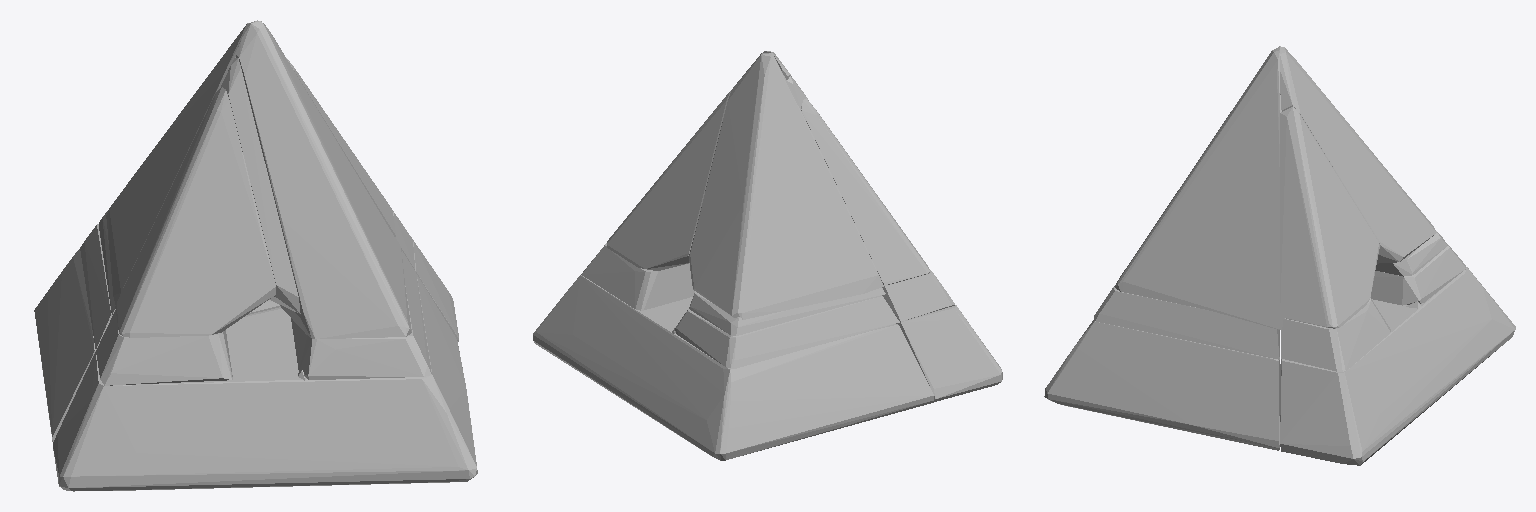
robot.urdf — root:
<robot name="root">
  <link name="link_Pyramid_W_Eye_convex_piece_0">
    <inertial>
      <origin xyz="0 0 0" rpy="0 0 0"/>
      <mass value="4.53E-07"/>
      <inertia ixx="2.87E-10" ixy="-6.75E-11" ixz="2.61E-12" iyy="1.64E-11" iyz="1.11E-11" izz="3.03E-10"/>
    </inertial>
    <visual>
      <origin xyz="0 0 0" rpy="0 0 0"/>
      <geometry>
        <mesh filename="Pyramid_W_Eye_convex_piece_0.obj" scale="1.0000E+00 1.0000E+00 1.0000E+00"/>
      </geometry>
      <material name="">
        <color rgba="7.50E-01 7.50E-01 7.50E-01 1"/>
      </material>
    </visual>
    <collision>
      <origin xyz="0 0 0" rpy="0 0 0"/>
      <geometry>
        <mesh filename="Pyramid_W_Eye_convex_piece_0.obj" scale="1.0000E+00 1.0000E+00 1.0000E+00"/>
      </geometry>
    </collision>
  </link>
  <link name="link_Pyramid_W_Eye_convex_piece_1">
    <inertial>
      <origin xyz="0 0 0" rpy="0 0 0"/>
      <mass value="2.35E-07"/>
      <inertia ixx="3.09E-13" ixy="-7.05E-13" ixz="1.48E-12" iyy="1.00E-11" iyz="1.10E-13" izz="9.88E-12"/>
    </inertial>
    <visual>
      <origin xyz="0 0 0" rpy="0 0 0"/>
      <geometry>
        <mesh filename="Pyramid_W_Eye_convex_piece_1.obj" scale="1.0000E+00 1.0000E+00 1.0000E+00"/>
      </geometry>
      <material name="">
        <color rgba="7.50E-01 7.50E-01 7.50E-01 1"/>
      </material>
    </visual>
    <collision>
      <origin xyz="0 0 0" rpy="0 0 0"/>
      <geometry>
        <mesh filename="Pyramid_W_Eye_convex_piece_1.obj" scale="1.0000E+00 1.0000E+00 1.0000E+00"/>
      </geometry>
    </collision>
  </link>
  <joint name="link_Pyramid_W_Eye_convex_piece_1_joint" type="fixed">
    <origin xyz="0 0 0" rpy="0 0 0"/>
    <parent link="link_Pyramid_W_Eye_convex_piece_0"/>
    <child link="link_Pyramid_W_Eye_convex_piece_1"/>
  </joint>
  <link name="link_Pyramid_W_Eye_convex_piece_2">
    <inertial>
      <origin xyz="0 0 0" rpy="0 0 0"/>
      <mass value="3.48E-07"/>
      <inertia ixx="4.64E-13" ixy="-1.23E-12" ixz="-2.09E-12" iyy="1.53E-11" iyz="-1.80E-13" izz="1.51E-11"/>
    </inertial>
    <visual>
      <origin xyz="0 0 0" rpy="0 0 0"/>
      <geometry>
        <mesh filename="Pyramid_W_Eye_convex_piece_2.obj" scale="1.0000E+00 1.0000E+00 1.0000E+00"/>
      </geometry>
      <material name="">
        <color rgba="7.50E-01 7.50E-01 7.50E-01 1"/>
      </material>
    </visual>
    <collision>
      <origin xyz="0 0 0" rpy="0 0 0"/>
      <geometry>
        <mesh filename="Pyramid_W_Eye_convex_piece_2.obj" scale="1.0000E+00 1.0000E+00 1.0000E+00"/>
      </geometry>
    </collision>
  </link>
  <joint name="link_Pyramid_W_Eye_convex_piece_2_joint" type="fixed">
    <origin xyz="0 0 0" rpy="0 0 0"/>
    <parent link="link_Pyramid_W_Eye_convex_piece_1"/>
    <child link="link_Pyramid_W_Eye_convex_piece_2"/>
  </joint>
  <link name="link_Pyramid_W_Eye_convex_piece_3">
    <inertial>
      <origin xyz="0 0 0" rpy="0 0 0"/>
      <mass value="3.45E-07"/>
      <inertia ixx="2.09E-10" ixy="-5.10E-11" ixz="-1.92E-12" iyy="1.27E-11" iyz="-7.85E-12" izz="2.21E-10"/>
    </inertial>
    <visual>
      <origin xyz="0 0 0" rpy="0 0 0"/>
      <geometry>
        <mesh filename="Pyramid_W_Eye_convex_piece_3.obj" scale="1.0000E+00 1.0000E+00 1.0000E+00"/>
      </geometry>
      <material name="">
        <color rgba="7.50E-01 7.50E-01 7.50E-01 1"/>
      </material>
    </visual>
    <collision>
      <origin xyz="0 0 0" rpy="0 0 0"/>
      <geometry>
        <mesh filename="Pyramid_W_Eye_convex_piece_3.obj" scale="1.0000E+00 1.0000E+00 1.0000E+00"/>
      </geometry>
    </collision>
  </link>
  <joint name="link_Pyramid_W_Eye_convex_piece_3_joint" type="fixed">
    <origin xyz="0 0 0" rpy="0 0 0"/>
    <parent link="link_Pyramid_W_Eye_convex_piece_2"/>
    <child link="link_Pyramid_W_Eye_convex_piece_3"/>
  </joint>
  <link name="link_Pyramid_W_Eye_convex_piece_4">
    <inertial>
      <origin xyz="0 0 0" rpy="0 0 0"/>
      <mass value="8.37E-03"/>
      <inertia ixx="4.40E-06" ixy="3.20E-07" ixz="5.32E-07" iyy="4.00E-06" iyz="-1.10E-06" izz="1.50E-06"/>
    </inertial>
    <visual>
      <origin xyz="0 0 0" rpy="0 0 0"/>
      <geometry>
        <mesh filename="Pyramid_W_Eye_convex_piece_4.obj" scale="1.0000E+00 1.0000E+00 1.0000E+00"/>
      </geometry>
      <material name="">
        <color rgba="7.50E-01 7.50E-01 7.50E-01 1"/>
      </material>
    </visual>
    <collision>
      <origin xyz="0 0 0" rpy="0 0 0"/>
      <geometry>
        <mesh filename="Pyramid_W_Eye_convex_piece_4.obj" scale="1.0000E+00 1.0000E+00 1.0000E+00"/>
      </geometry>
    </collision>
  </link>
  <joint name="link_Pyramid_W_Eye_convex_piece_4_joint" type="fixed">
    <origin xyz="0 0 0" rpy="0 0 0"/>
    <parent link="link_Pyramid_W_Eye_convex_piece_3"/>
    <child link="link_Pyramid_W_Eye_convex_piece_4"/>
  </joint>
  <link name="link_Pyramid_W_Eye_convex_piece_5">
    <inertial>
      <origin xyz="0 0 0" rpy="0 0 0"/>
      <mass value="1.00E-03"/>
      <inertia ixx="2.84E-07" ixy="1.12E-07" ixz="5.32E-08" iyy="1.65E-07" iyz="-7.50E-08" izz="3.90E-07"/>
    </inertial>
    <visual>
      <origin xyz="0 0 0" rpy="0 0 0"/>
      <geometry>
        <mesh filename="Pyramid_W_Eye_convex_piece_5.obj" scale="1.0000E+00 1.0000E+00 1.0000E+00"/>
      </geometry>
      <material name="">
        <color rgba="7.50E-01 7.50E-01 7.50E-01 1"/>
      </material>
    </visual>
    <collision>
      <origin xyz="0 0 0" rpy="0 0 0"/>
      <geometry>
        <mesh filename="Pyramid_W_Eye_convex_piece_5.obj" scale="1.0000E+00 1.0000E+00 1.0000E+00"/>
      </geometry>
    </collision>
  </link>
  <joint name="link_Pyramid_W_Eye_convex_piece_5_joint" type="fixed">
    <origin xyz="0 0 0" rpy="0 0 0"/>
    <parent link="link_Pyramid_W_Eye_convex_piece_4"/>
    <child link="link_Pyramid_W_Eye_convex_piece_5"/>
  </joint>
  <link name="link_Pyramid_W_Eye_convex_piece_6">
    <inertial>
      <origin xyz="0 0 0" rpy="0 0 0"/>
      <mass value="2.28E-03"/>
      <inertia ixx="6.85E-07" ixy="2.89E-07" ixz="2.79E-08" iyy="3.60E-07" iyz="-4.01E-08" izz="1.03E-06"/>
    </inertial>
    <visual>
      <origin xyz="0 0 0" rpy="0 0 0"/>
      <geometry>
        <mesh filename="Pyramid_W_Eye_convex_piece_6.obj" scale="1.0000E+00 1.0000E+00 1.0000E+00"/>
      </geometry>
      <material name="">
        <color rgba="7.50E-01 7.50E-01 7.50E-01 1"/>
      </material>
    </visual>
    <collision>
      <origin xyz="0 0 0" rpy="0 0 0"/>
      <geometry>
        <mesh filename="Pyramid_W_Eye_convex_piece_6.obj" scale="1.0000E+00 1.0000E+00 1.0000E+00"/>
      </geometry>
    </collision>
  </link>
  <joint name="link_Pyramid_W_Eye_convex_piece_6_joint" type="fixed">
    <origin xyz="0 0 0" rpy="0 0 0"/>
    <parent link="link_Pyramid_W_Eye_convex_piece_5"/>
    <child link="link_Pyramid_W_Eye_convex_piece_6"/>
  </joint>
  <link name="link_Pyramid_W_Eye_convex_piece_7">
    <inertial>
      <origin xyz="0 0 0" rpy="0 0 0"/>
      <mass value="7.98E-03"/>
      <inertia ixx="4.06E-06" ixy="4.09E-07" ixz="-6.25E-07" iyy="3.59E-06" iyz="1.03E-06" izz="1.62E-06"/>
    </inertial>
    <visual>
      <origin xyz="0 0 0" rpy="0 0 0"/>
      <geometry>
        <mesh filename="Pyramid_W_Eye_convex_piece_7.obj" scale="1.0000E+00 1.0000E+00 1.0000E+00"/>
      </geometry>
      <material name="">
        <color rgba="7.50E-01 7.50E-01 7.50E-01 1"/>
      </material>
    </visual>
    <collision>
      <origin xyz="0 0 0" rpy="0 0 0"/>
      <geometry>
        <mesh filename="Pyramid_W_Eye_convex_piece_7.obj" scale="1.0000E+00 1.0000E+00 1.0000E+00"/>
      </geometry>
    </collision>
  </link>
  <joint name="link_Pyramid_W_Eye_convex_piece_7_joint" type="fixed">
    <origin xyz="0 0 0" rpy="0 0 0"/>
    <parent link="link_Pyramid_W_Eye_convex_piece_6"/>
    <child link="link_Pyramid_W_Eye_convex_piece_7"/>
  </joint>
  <link name="link_Pyramid_W_Eye_convex_piece_8">
    <inertial>
      <origin xyz="0 0 0" rpy="0 0 0"/>
      <mass value="8.45E-04"/>
      <inertia ixx="4.81E-07" ixy="-3.28E-08" ixz="9.35E-08" iyy="4.43E-07" iyz="1.08E-07" izz="8.91E-08"/>
    </inertial>
    <visual>
      <origin xyz="0 0 0" rpy="0 0 0"/>
      <geometry>
        <mesh filename="Pyramid_W_Eye_convex_piece_8.obj" scale="1.0000E+00 1.0000E+00 1.0000E+00"/>
      </geometry>
      <material name="">
        <color rgba="7.50E-01 7.50E-01 7.50E-01 1"/>
      </material>
    </visual>
    <collision>
      <origin xyz="0 0 0" rpy="0 0 0"/>
      <geometry>
        <mesh filename="Pyramid_W_Eye_convex_piece_8.obj" scale="1.0000E+00 1.0000E+00 1.0000E+00"/>
      </geometry>
    </collision>
  </link>
  <joint name="link_Pyramid_W_Eye_convex_piece_8_joint" type="fixed">
    <origin xyz="0 0 0" rpy="0 0 0"/>
    <parent link="link_Pyramid_W_Eye_convex_piece_7"/>
    <child link="link_Pyramid_W_Eye_convex_piece_8"/>
  </joint>
  <link name="link_Pyramid_W_Eye_convex_piece_9">
    <inertial>
      <origin xyz="0 0 0" rpy="0 0 0"/>
      <mass value="2.49E-03"/>
      <inertia ixx="7.43E-07" ixy="3.12E-07" ixz="-3.59E-08" iyy="3.94E-07" iyz="5.13E-08" izz="1.11E-06"/>
    </inertial>
    <visual>
      <origin xyz="0 0 0" rpy="0 0 0"/>
      <geometry>
        <mesh filename="Pyramid_W_Eye_convex_piece_9.obj" scale="1.0000E+00 1.0000E+00 1.0000E+00"/>
      </geometry>
      <material name="">
        <color rgba="7.50E-01 7.50E-01 7.50E-01 1"/>
      </material>
    </visual>
    <collision>
      <origin xyz="0 0 0" rpy="0 0 0"/>
      <geometry>
        <mesh filename="Pyramid_W_Eye_convex_piece_9.obj" scale="1.0000E+00 1.0000E+00 1.0000E+00"/>
      </geometry>
    </collision>
  </link>
  <joint name="link_Pyramid_W_Eye_convex_piece_9_joint" type="fixed">
    <origin xyz="0 0 0" rpy="0 0 0"/>
    <parent link="link_Pyramid_W_Eye_convex_piece_8"/>
    <child link="link_Pyramid_W_Eye_convex_piece_9"/>
  </joint>
  <link name="link_Pyramid_W_Eye_convex_piece_10">
    <inertial>
      <origin xyz="0 0 0" rpy="0 0 0"/>
      <mass value="3.34E-03"/>
      <inertia ixx="1.17E-06" ixy="-3.12E-07" ixz="-6.51E-07" iyy="1.72E-06" iyz="-3.07E-07" izz="9.53E-07"/>
    </inertial>
    <visual>
      <origin xyz="0 0 0" rpy="0 0 0"/>
      <geometry>
        <mesh filename="Pyramid_W_Eye_convex_piece_10.obj" scale="1.0000E+00 1.0000E+00 1.0000E+00"/>
      </geometry>
      <material name="">
        <color rgba="7.50E-01 7.50E-01 7.50E-01 1"/>
      </material>
    </visual>
    <collision>
      <origin xyz="0 0 0" rpy="0 0 0"/>
      <geometry>
        <mesh filename="Pyramid_W_Eye_convex_piece_10.obj" scale="1.0000E+00 1.0000E+00 1.0000E+00"/>
      </geometry>
    </collision>
  </link>
  <joint name="link_Pyramid_W_Eye_convex_piece_10_joint" type="fixed">
    <origin xyz="0 0 0" rpy="0 0 0"/>
    <parent link="link_Pyramid_W_Eye_convex_piece_9"/>
    <child link="link_Pyramid_W_Eye_convex_piece_10"/>
  </joint>
  <link name="link_Pyramid_W_Eye_convex_piece_11">
    <inertial>
      <origin xyz="0 0 0" rpy="0 0 0"/>
      <mass value="1.54E-03"/>
      <inertia ixx="1.42E-07" ixy="-2.49E-07" ixz="-5.82E-08" iyy="6.76E-07" iyz="-2.25E-08" izz="7.94E-07"/>
    </inertial>
    <visual>
      <origin xyz="0 0 0" rpy="0 0 0"/>
      <geometry>
        <mesh filename="Pyramid_W_Eye_convex_piece_11.obj" scale="1.0000E+00 1.0000E+00 1.0000E+00"/>
      </geometry>
      <material name="">
        <color rgba="7.50E-01 7.50E-01 7.50E-01 1"/>
      </material>
    </visual>
    <collision>
      <origin xyz="0 0 0" rpy="0 0 0"/>
      <geometry>
        <mesh filename="Pyramid_W_Eye_convex_piece_11.obj" scale="1.0000E+00 1.0000E+00 1.0000E+00"/>
      </geometry>
    </collision>
  </link>
  <joint name="link_Pyramid_W_Eye_convex_piece_11_joint" type="fixed">
    <origin xyz="0 0 0" rpy="0 0 0"/>
    <parent link="link_Pyramid_W_Eye_convex_piece_10"/>
    <child link="link_Pyramid_W_Eye_convex_piece_11"/>
  </joint>
  <link name="link_Pyramid_W_Eye_convex_piece_12">
    <inertial>
      <origin xyz="0 0 0" rpy="0 0 0"/>
      <mass value="3.21E-03"/>
      <inertia ixx="1.06E-06" ixy="-3.12E-07" ixz="6.29E-07" iyy="1.63E-06" iyz="2.86E-07" izz="9.57E-07"/>
    </inertial>
    <visual>
      <origin xyz="0 0 0" rpy="0 0 0"/>
      <geometry>
        <mesh filename="Pyramid_W_Eye_convex_piece_12.obj" scale="1.0000E+00 1.0000E+00 1.0000E+00"/>
      </geometry>
      <material name="">
        <color rgba="7.50E-01 7.50E-01 7.50E-01 1"/>
      </material>
    </visual>
    <collision>
      <origin xyz="0 0 0" rpy="0 0 0"/>
      <geometry>
        <mesh filename="Pyramid_W_Eye_convex_piece_12.obj" scale="1.0000E+00 1.0000E+00 1.0000E+00"/>
      </geometry>
    </collision>
  </link>
  <joint name="link_Pyramid_W_Eye_convex_piece_12_joint" type="fixed">
    <origin xyz="0 0 0" rpy="0 0 0"/>
    <parent link="link_Pyramid_W_Eye_convex_piece_11"/>
    <child link="link_Pyramid_W_Eye_convex_piece_12"/>
  </joint>
  <link name="link_Pyramid_W_Eye_convex_piece_13">
    <inertial>
      <origin xyz="0 0 0" rpy="0 0 0"/>
      <mass value="1.53E-03"/>
      <inertia ixx="1.39E-07" ixy="-2.46E-07" ixz="5.57E-08" iyy="6.72E-07" iyz="2.14E-08" izz="7.89E-07"/>
    </inertial>
    <visual>
      <origin xyz="0 0 0" rpy="0 0 0"/>
      <geometry>
        <mesh filename="Pyramid_W_Eye_convex_piece_13.obj" scale="1.0000E+00 1.0000E+00 1.0000E+00"/>
      </geometry>
      <material name="">
        <color rgba="7.50E-01 7.50E-01 7.50E-01 1"/>
      </material>
    </visual>
    <collision>
      <origin xyz="0 0 0" rpy="0 0 0"/>
      <geometry>
        <mesh filename="Pyramid_W_Eye_convex_piece_13.obj" scale="1.0000E+00 1.0000E+00 1.0000E+00"/>
      </geometry>
    </collision>
  </link>
  <joint name="link_Pyramid_W_Eye_convex_piece_13_joint" type="fixed">
    <origin xyz="0 0 0" rpy="0 0 0"/>
    <parent link="link_Pyramid_W_Eye_convex_piece_12"/>
    <child link="link_Pyramid_W_Eye_convex_piece_13"/>
  </joint>
  <link name="link_Pyramid_W_Eye_convex_piece_14">
    <inertial>
      <origin xyz="0 0 0" rpy="0 0 0"/>
      <mass value="2.01E-02"/>
      <inertia ixx="8.52E-06" ixy="-6.82E-09" ixz="3.49E-07" iyy="8.44E-06" iyz="2.97E-06" izz="1.24E-05"/>
    </inertial>
    <visual>
      <origin xyz="0 0 0" rpy="0 0 0"/>
      <geometry>
        <mesh filename="Pyramid_W_Eye_convex_piece_14.obj" scale="1.0000E+00 1.0000E+00 1.0000E+00"/>
      </geometry>
      <material name="">
        <color rgba="7.50E-01 7.50E-01 7.50E-01 1"/>
      </material>
    </visual>
    <collision>
      <origin xyz="0 0 0" rpy="0 0 0"/>
      <geometry>
        <mesh filename="Pyramid_W_Eye_convex_piece_14.obj" scale="1.0000E+00 1.0000E+00 1.0000E+00"/>
      </geometry>
    </collision>
  </link>
  <joint name="link_Pyramid_W_Eye_convex_piece_14_joint" type="fixed">
    <origin xyz="0 0 0" rpy="0 0 0"/>
    <parent link="link_Pyramid_W_Eye_convex_piece_13"/>
    <child link="link_Pyramid_W_Eye_convex_piece_14"/>
  </joint>
  <link name="link_Pyramid_W_Eye_convex_piece_15">
    <inertial>
      <origin xyz="0 0 0" rpy="0 0 0"/>
      <mass value="2.01E-02"/>
      <inertia ixx="8.52E-06" ixy="-6.39E-09" ixz="-3.48E-07" iyy="8.46E-06" iyz="-2.97E-06" izz="1.24E-05"/>
    </inertial>
    <visual>
      <origin xyz="0 0 0" rpy="0 0 0"/>
      <geometry>
        <mesh filename="Pyramid_W_Eye_convex_piece_15.obj" scale="1.0000E+00 1.0000E+00 1.0000E+00"/>
      </geometry>
      <material name="">
        <color rgba="7.50E-01 7.50E-01 7.50E-01 1"/>
      </material>
    </visual>
    <collision>
      <origin xyz="0 0 0" rpy="0 0 0"/>
      <geometry>
        <mesh filename="Pyramid_W_Eye_convex_piece_15.obj" scale="1.0000E+00 1.0000E+00 1.0000E+00"/>
      </geometry>
    </collision>
  </link>
  <joint name="link_Pyramid_W_Eye_convex_piece_15_joint" type="fixed">
    <origin xyz="0 0 0" rpy="0 0 0"/>
    <parent link="link_Pyramid_W_Eye_convex_piece_14"/>
    <child link="link_Pyramid_W_Eye_convex_piece_15"/>
  </joint>
</robot>

--- Facts derived from the render (not from the file) ---
3 views of the same robot in one strip: view 1: azimuth 30°, elevation 25°; view 2: azimuth 150°, elevation 25°; view 3: azimuth 270°, elevation 25° (orthographic).
Model root with 16 links and 15 joints (15 fixed), rooted at link_Pyramid_W_Eye_convex_piece_0, posed every joint at zero.
Links seen in each view (by area): view 1: link_Pyramid_W_Eye_convex_piece_15, link_Pyramid_W_Eye_convex_piece_7, link_Pyramid_W_Eye_convex_piece_12, link_Pyramid_W_Eye_convex_piece_14, link_Pyramid_W_Eye_convex_piece_4, link_Pyramid_W_Eye_convex_piece_9, link_Pyramid_W_Eye_convex_piece_13, link_Pyramid_W_Eye_convex_piece_8, link_Pyramid_W_Eye_convex_piece_6, link_Pyramid_W_Eye_convex_piece_10, link_Pyramid_W_Eye_convex_piece_5; view 2: link_Pyramid_W_Eye_convex_piece_14, link_Pyramid_W_Eye_convex_piece_4, link_Pyramid_W_Eye_convex_piece_10, link_Pyramid_W_Eye_convex_piece_6, link_Pyramid_W_Eye_convex_piece_12, link_Pyramid_W_Eye_convex_piece_15, link_Pyramid_W_Eye_convex_piece_11, link_Pyramid_W_Eye_convex_piece_5, link_Pyramid_W_Eye_convex_piece_13; view 3: link_Pyramid_W_Eye_convex_piece_7, link_Pyramid_W_Eye_convex_piece_14, link_Pyramid_W_Eye_convex_piece_15, link_Pyramid_W_Eye_convex_piece_10, link_Pyramid_W_Eye_convex_piece_4, link_Pyramid_W_Eye_convex_piece_9, link_Pyramid_W_Eye_convex_piece_11, link_Pyramid_W_Eye_convex_piece_6, link_Pyramid_W_Eye_convex_piece_5.
Link boxes in pixels (x1=…): link_Pyramid_W_Eye_convex_piece_15: x1=53, y1=275, x2=477, y2=491; link_Pyramid_W_Eye_convex_piece_7: x1=236, y1=21, x2=411, y2=338; link_Pyramid_W_Eye_convex_piece_12: x1=115, y1=87, x2=275, y2=337; link_Pyramid_W_Eye_convex_piece_14: x1=34, y1=240, x2=458, y2=441; link_Pyramid_W_Eye_convex_piece_4: x1=106, y1=20, x2=283, y2=304; link_Pyramid_W_Eye_convex_piece_9: x1=291, y1=251, x2=431, y2=379; link_Pyramid_W_Eye_convex_piece_13: x1=96, y1=310, x2=232, y2=385; link_Pyramid_W_Eye_convex_piece_8: x1=221, y1=58, x2=300, y2=313; link_Pyramid_W_Eye_convex_piece_6: x1=80, y1=224, x2=111, y2=349; link_Pyramid_W_Eye_convex_piece_10: x1=286, y1=58, x2=395, y2=236; link_Pyramid_W_Eye_convex_piece_5: x1=99, y1=211, x2=115, y2=315; link_Pyramid_W_Eye_convex_piece_14: x1=533, y1=275, x2=933, y2=460; link_Pyramid_W_Eye_convex_piece_4: x1=689, y1=53, x2=886, y2=319; link_Pyramid_W_Eye_convex_piece_10: x1=607, y1=91, x2=730, y2=270; link_Pyramid_W_Eye_convex_piece_6: x1=675, y1=296, x2=899, y2=368; link_Pyramid_W_Eye_convex_piece_12: x1=801, y1=98, x2=929, y2=284; link_Pyramid_W_Eye_convex_piece_15: x1=896, y1=305, x2=1002, y2=402; link_Pyramid_W_Eye_convex_piece_11: x1=581, y1=243, x2=694, y2=310; link_Pyramid_W_Eye_convex_piece_5: x1=689, y1=288, x2=885, y2=335; link_Pyramid_W_Eye_convex_piece_13: x1=882, y1=270, x2=954, y2=321; link_Pyramid_W_Eye_convex_piece_7: x1=1114, y1=46, x2=1284, y2=329; link_Pyramid_W_Eye_convex_piece_14: x1=1280, y1=267, x2=1515, y2=465; link_Pyramid_W_Eye_convex_piece_15: x1=1044, y1=319, x2=1279, y2=450; link_Pyramid_W_Eye_convex_piece_10: x1=1280, y1=106, x2=1379, y2=328; link_Pyramid_W_Eye_convex_piece_4: x1=1280, y1=46, x2=1436, y2=263; link_Pyramid_W_Eye_convex_piece_9: x1=1094, y1=287, x2=1279, y2=359; link_Pyramid_W_Eye_convex_piece_11: x1=1281, y1=298, x2=1390, y2=371; link_Pyramid_W_Eye_convex_piece_6: x1=1371, y1=244, x2=1465, y2=305; link_Pyramid_W_Eye_convex_piece_5: x1=1375, y1=231, x2=1447, y2=276.
Size in the robot's own frame: 0.0874 by 0.0874 by 0.0657 metres.
16 mesh visuals loaded from 16 distinct referenced files (16 OBJ).
